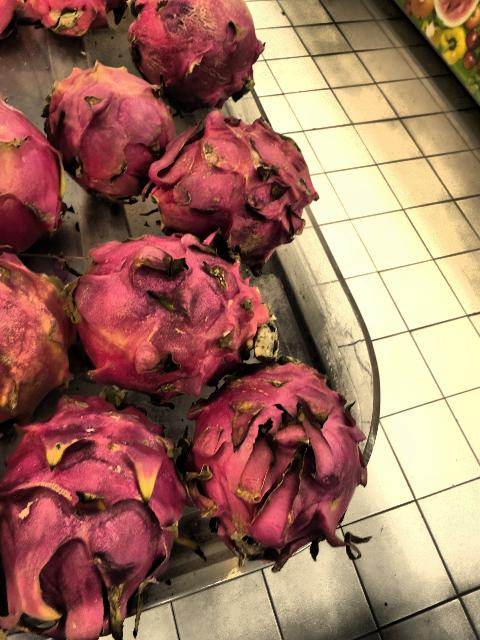buah-naga-belum-matang: (45, 68, 165, 190), (1, 245, 74, 409)
buah-naga-matang: (14, 380, 186, 640), (191, 358, 365, 552), (74, 228, 282, 386), (157, 123, 319, 253), (132, 0, 266, 100), (0, 97, 68, 255)
